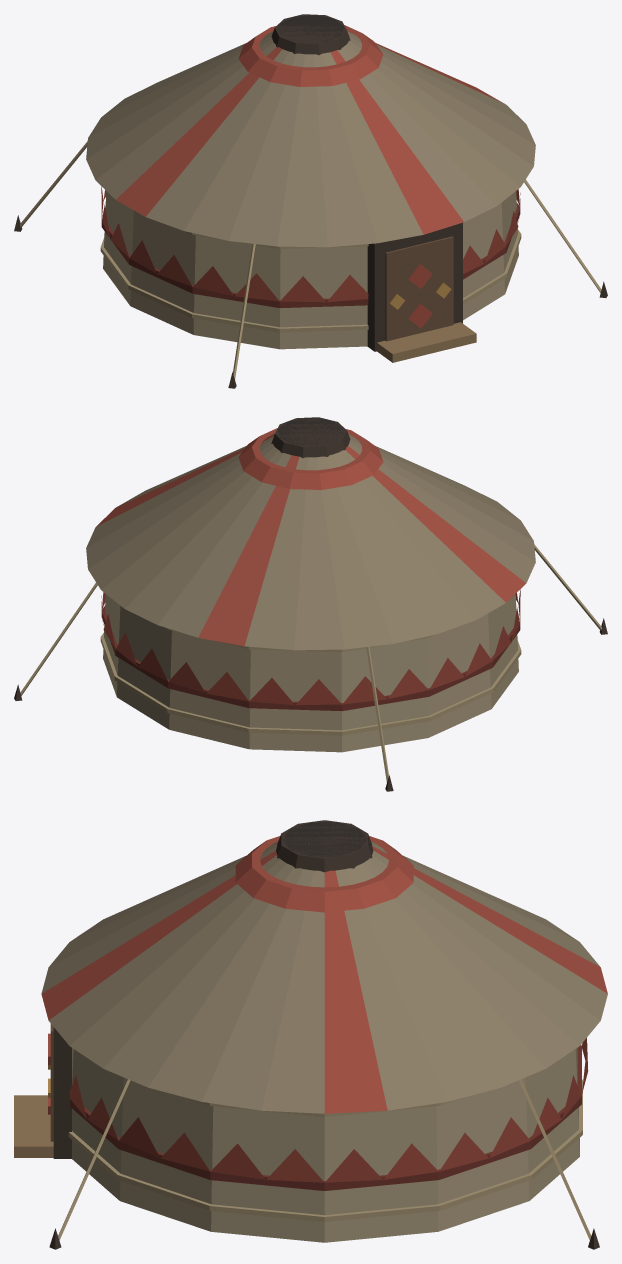
Rendered from yurt.glb.
3 views of the same model, one above another, from view 1: azimuth 30°, elevation 25°; view 2: azimuth 150°, elevation 25°; view 3: azimuth 270°, elevation 25° (orthographic). The views are drawn at different scales.
Visible parts, largest first — view 1: felt roof, felt wall, painted door, painted crown band, door frame, girth rope, door step, roof crown, painted band, smoke hole, painted zigzag.018, painted zigzag.019 (+3 smaller); view 2: felt roof, felt wall, painted crown band, girth rope, painted band, roof crown, smoke hole, painted zigzag.009, painted zigzag.008, painted zigzag.007, painted zigzag.010, painted zigzag.011 (+2 smaller); view 3: felt roof, felt wall, painted crown band, girth rope, painted band, roof crown, door step, smoke hole, door frame, painted zigzag.027, painted zigzag, painted zigzag.001 (+8 smaller).
Part boxes in pixels (x1,y1,x2,y2): felt roof: (86, 30, 535, 247); felt wall: (103, 191, 518, 349); painted door: (385, 236, 453, 341); painted crown band: (238, 25, 383, 86); door frame: (367, 222, 462, 351); girth rope: (100, 230, 521, 332); door step: (377, 322, 476, 362); roof crown: (271, 14, 350, 55); painted band: (101, 202, 520, 308); smoke hole: (278, 15, 343, 42); painted zigzag.018: (280, 276, 326, 302); painted zigzag.019: (327, 275, 368, 302); felt roof: (86, 433, 535, 650); felt wall: (103, 594, 518, 752); painted crown band: (238, 428, 383, 489); girth rope: (100, 633, 521, 735); painted band: (101, 605, 520, 711); roof crown: (271, 417, 350, 458); smoke hole: (278, 418, 343, 445); painted zigzag.009: (295, 679, 341, 705); painted zigzag.008: (249, 678, 294, 705); painted zigzag.007: (206, 672, 248, 701); painted zigzag.010: (343, 676, 386, 704); painted zigzag.011: (388, 669, 428, 699); felt roof: (41, 841, 607, 1113); felt wall: (72, 1048, 579, 1242); painted crown band: (235, 836, 413, 912); girth rope: (68, 1079, 582, 1221); painted band: (70, 1045, 581, 1190); roof crown: (276, 820, 373, 872); door step: (14, 1095, 53, 1157); smoke hole: (282, 822, 366, 856); door frame: (53, 1027, 71, 1158); painted zigzag.027: (266, 1149, 324, 1182); painted zigzag: (325, 1149, 382, 1182); painted zigzag.001: (383, 1143, 438, 1179).
Bounding box in the file's own units: 1.86 × 1.06 × 1.95.
